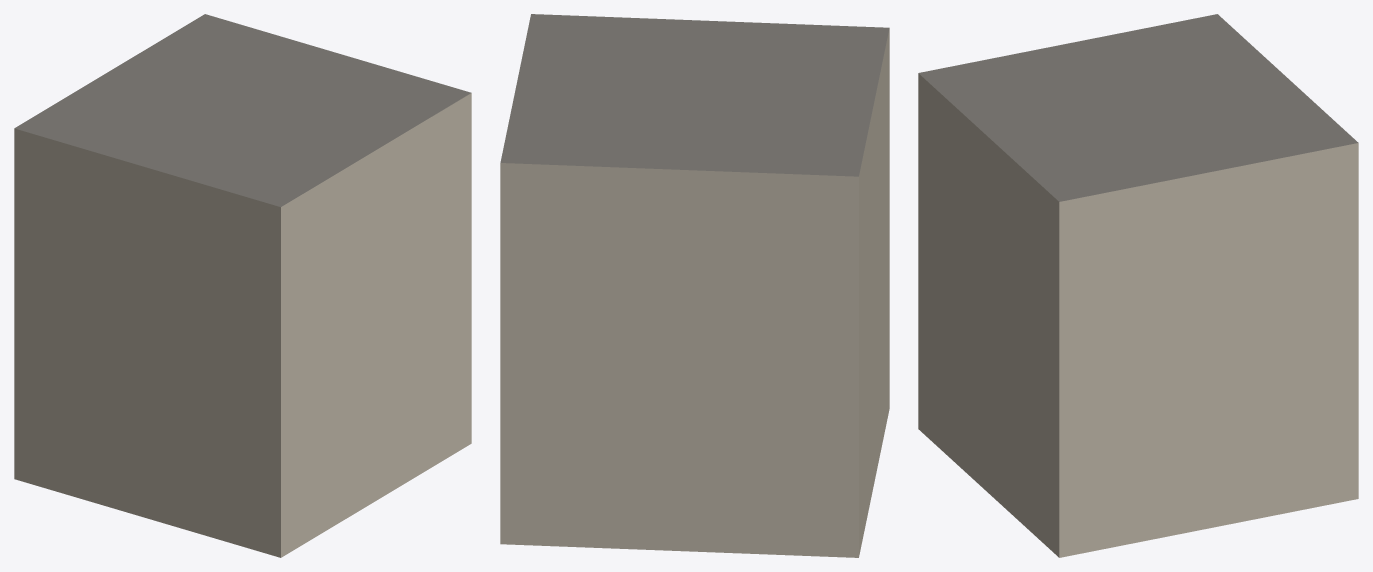
The picture shows the model from 3 angles, left to right: view 1: azimuth 30°, elevation 25°; view 2: azimuth 150°, elevation 25°; view 3: azimuth 270°, elevation 25°; orthographic projection. The views are drawn at different scales.
Parts seen in each view (by area): view 1: HP-w378107158; view 2: HP-w378107158; view 3: HP-w378107158.
Part boxes in pixels (box(x1,y1,x2,y2)): HP-w378107158: box(14, 14, 471, 557); HP-w378107158: box(500, 14, 889, 557); HP-w378107158: box(918, 14, 1358, 557).
Size of the model in its own units: 20.38 by 18 by 20.18.
